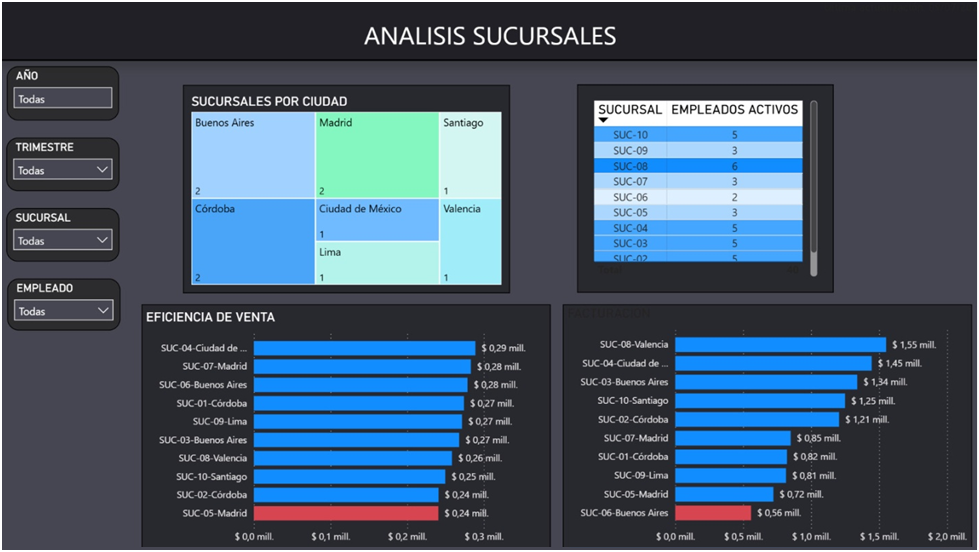

The page's visual inventory and layout, read from the dashboard file:
{"tool":"powerbi","page":{"name":"SUCURSALES","canvas":[1280,720],"ordinal":1},"visuals":[{"type":"textbox","title":"Última actualización:  09/07/2026","box":[0,0,1280,78.9],"z":0},{"type":"slicer","fields":{"Values":["TRANSACCIONES.SucursalID"]},"box":[15.6,269.1,145.6,68.9],"z":1000},{"type":"slicer","fields":{"Values":["CALENDARIO.AÑO"]},"box":[16.2,86.2,145,70],"z":2000},{"type":"slicer","fields":{"Values":["CALENDARIO.Trimestre"]},"box":[15.6,178.2,145.6,68.9],"z":3000},{"type":"treemap","title":"SUCURSALES POR CIUDAD","fields":{"Group":["SUCURSALES.Ciudad"],"Values":["SUCURSALES.CANT DE SUC"]},"box":[243.3,110,422.2,268.9],"z":4000},{"type":"barChart","title":"FACTURACION","fields":{"Category":["SUCURSALES.sucursal"],"Y":["Sum(TRANSACCIONES.total_transacciones)"]},"box":[733.3,393.3,527.8,318.9],"z":5000},{"type":"slicer","fields":{"Values":["EMPLEADOS.EmpleadoID"]},"box":[16.7,360,145.6,66.7],"z":6000},{"type":"clusteredBarChart","title":"EFICIENCIA DE VENTA","fields":{"Category":["SUCURSALES.sucursal"],"Y":["TRANSACCIONES.Facturación_por_Empleado"]},"box":[190,393.3,527.8,318.9],"z":7000},{"type":"tableEx","fields":{"Values":["EMPLEADOS.SucursalID","EMPLEADOS.EMPLEADOS ACTIVOS"]},"box":[752,109.6,331.3,269.3],"z":8000}]}

Visuals, with their boxes in screenshot pixels (x1, y1, x2, y2), scaled from the page's 1280x720 canvas onto the 979x552 screenshot:
"Última actualización:  09/07/2026" textbox: 0:0:978:60
slicer - TRANSACCIONES.SucursalID: 12:206:123:259
slicer - CALENDARIO.AÑO: 12:66:123:120
slicer - CALENDARIO.Trimestre: 12:137:123:189
"SUCURSALES POR CIUDAD" treemap: 186:84:509:290
"FACTURACION" barChart: 561:302:965:546
slicer - EMPLEADOS.EmpleadoID: 13:276:124:327
"EFICIENCIA DE VENTA" clusteredBarChart: 145:302:549:546
tableEx - EMPLEADOS.SucursalID x EMPLEADOS.EMPLEADOS ACTIVOS: 575:84:829:290
